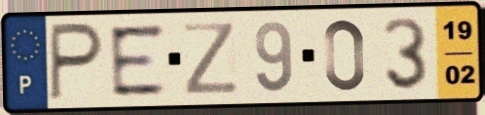0: (322, 17, 367, 94)
3: (381, 15, 431, 92)
9: (252, 18, 295, 95)
E: (105, 21, 169, 99)
P: (47, 20, 107, 104)
Z: (180, 20, 243, 97)
